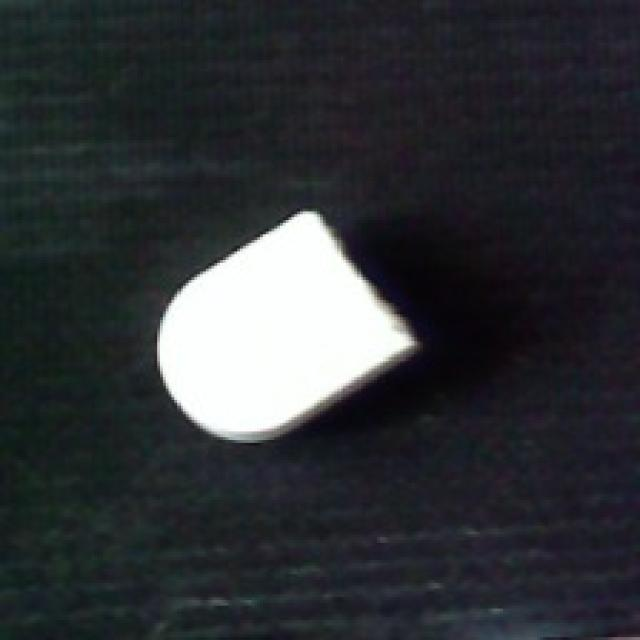defected: (152, 205, 432, 446)
